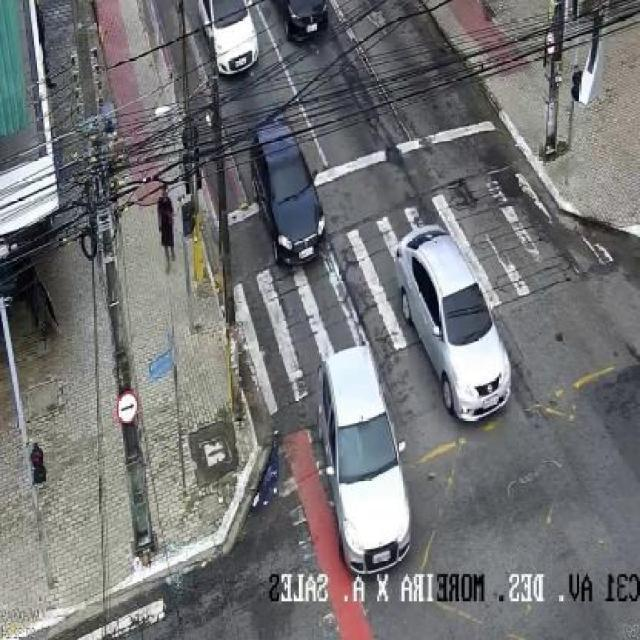Car: (396, 226, 510, 417), (318, 346, 410, 575), (250, 117, 325, 266), (200, 1, 259, 75), (281, 0, 331, 42)
